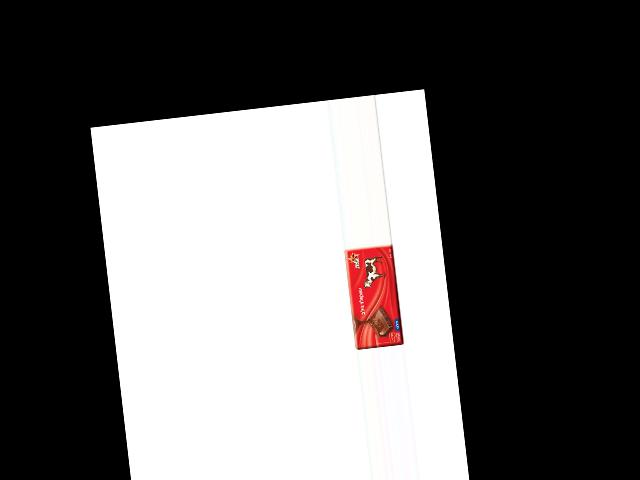chocolate: (343, 243, 403, 350)
